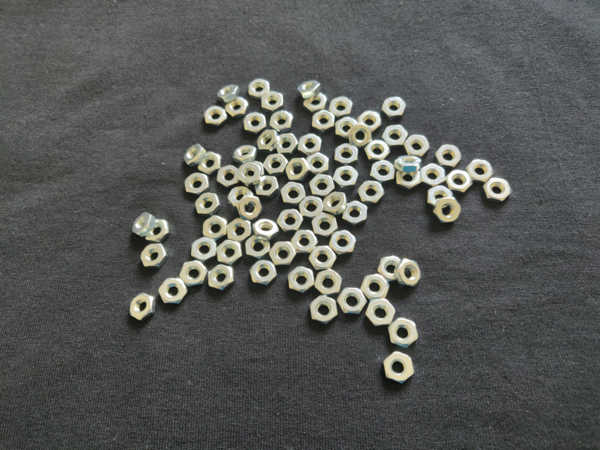nut: (364, 298, 398, 329), (384, 352, 415, 385), (390, 318, 419, 350), (309, 297, 340, 326), (248, 260, 280, 288), (396, 259, 425, 288), (209, 264, 237, 293), (142, 243, 169, 273), (270, 241, 298, 269), (484, 177, 513, 204), (287, 266, 312, 297), (338, 288, 366, 315), (314, 269, 341, 297), (179, 260, 207, 287), (131, 292, 155, 323), (435, 197, 462, 224), (436, 143, 464, 169), (362, 275, 390, 301), (161, 279, 187, 307), (214, 240, 243, 265), (329, 230, 356, 256), (309, 247, 336, 273), (253, 216, 280, 242), (311, 213, 338, 238), (237, 196, 264, 221), (356, 181, 386, 203), (278, 208, 303, 234), (196, 192, 221, 218), (333, 165, 360, 189), (203, 216, 227, 243), (191, 238, 216, 263), (421, 162, 445, 188), (370, 160, 396, 184), (342, 202, 368, 226), (184, 173, 208, 198), (197, 152, 221, 177), (377, 256, 400, 282), (292, 231, 318, 254), (227, 219, 250, 245), (468, 160, 495, 182), (146, 221, 170, 245), (238, 161, 262, 185), (308, 151, 332, 175), (329, 96, 354, 119), (298, 195, 324, 217), (277, 132, 299, 158), (229, 186, 257, 206), (310, 174, 334, 197), (336, 144, 359, 168), (312, 111, 335, 135), (425, 186, 454, 205), (382, 95, 407, 117), (405, 135, 431, 156), (364, 141, 390, 162), (449, 170, 472, 193), (226, 95, 249, 118), (281, 183, 305, 205), (203, 105, 227, 127), (299, 134, 321, 158), (348, 123, 370, 147), (243, 112, 267, 134), (396, 169, 421, 190), (383, 126, 408, 147), (256, 176, 280, 197), (324, 192, 345, 215), (262, 91, 283, 114), (185, 143, 205, 167), (245, 239, 270, 258), (218, 164, 237, 189), (286, 160, 307, 182), (357, 110, 380, 130), (262, 156, 286, 175), (134, 212, 151, 238), (271, 111, 292, 132), (250, 78, 272, 98), (335, 119, 356, 139), (257, 132, 277, 153), (233, 145, 255, 164), (395, 156, 422, 171), (299, 80, 321, 98), (218, 84, 238, 102), (305, 95, 328, 110)
